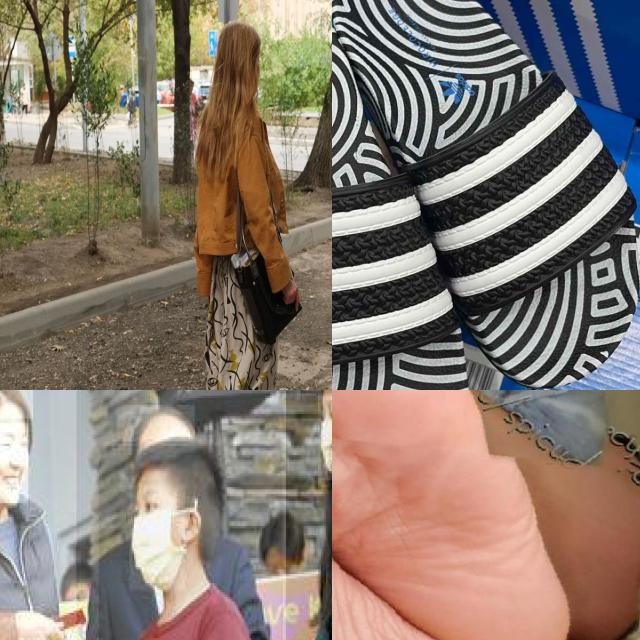Barefoots: (332, 390, 582, 640)
No_Ear-Protection: (176, 502, 202, 549)
Sandals: (332, 0, 640, 390)
face_mask: (129, 485, 185, 590), (318, 393, 332, 482)
face_nomask: (0, 423, 30, 505)
hand_noglove: (9, 597, 65, 640)
head_nohelmet: (116, 405, 196, 444), (131, 455, 220, 490), (0, 390, 34, 420)
person: (98, 446, 284, 640), (0, 390, 78, 640)
